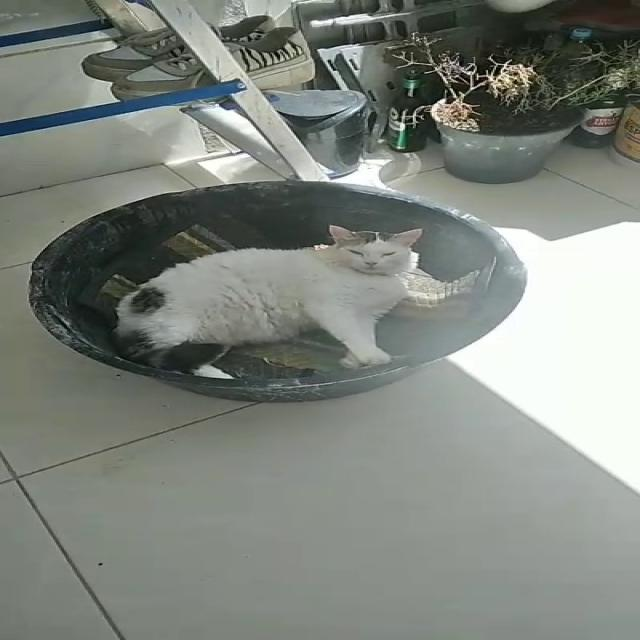Simba: (127, 211, 473, 359)
